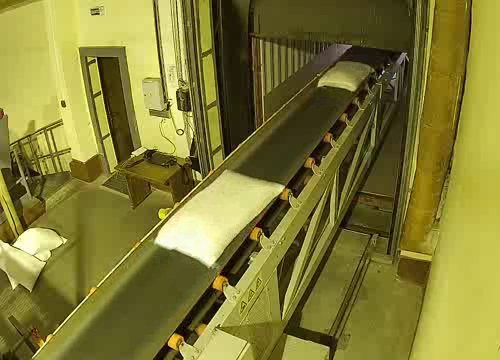bag: (153, 166, 288, 272), (313, 58, 380, 95)
